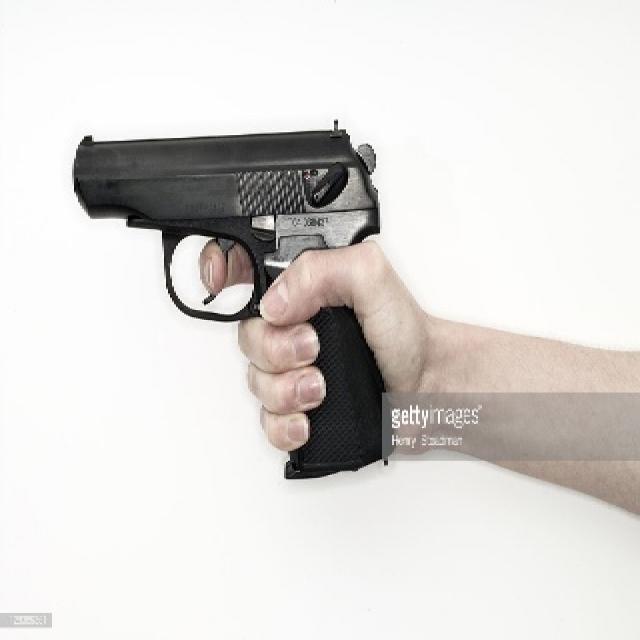weapon: (74, 117, 398, 480)
